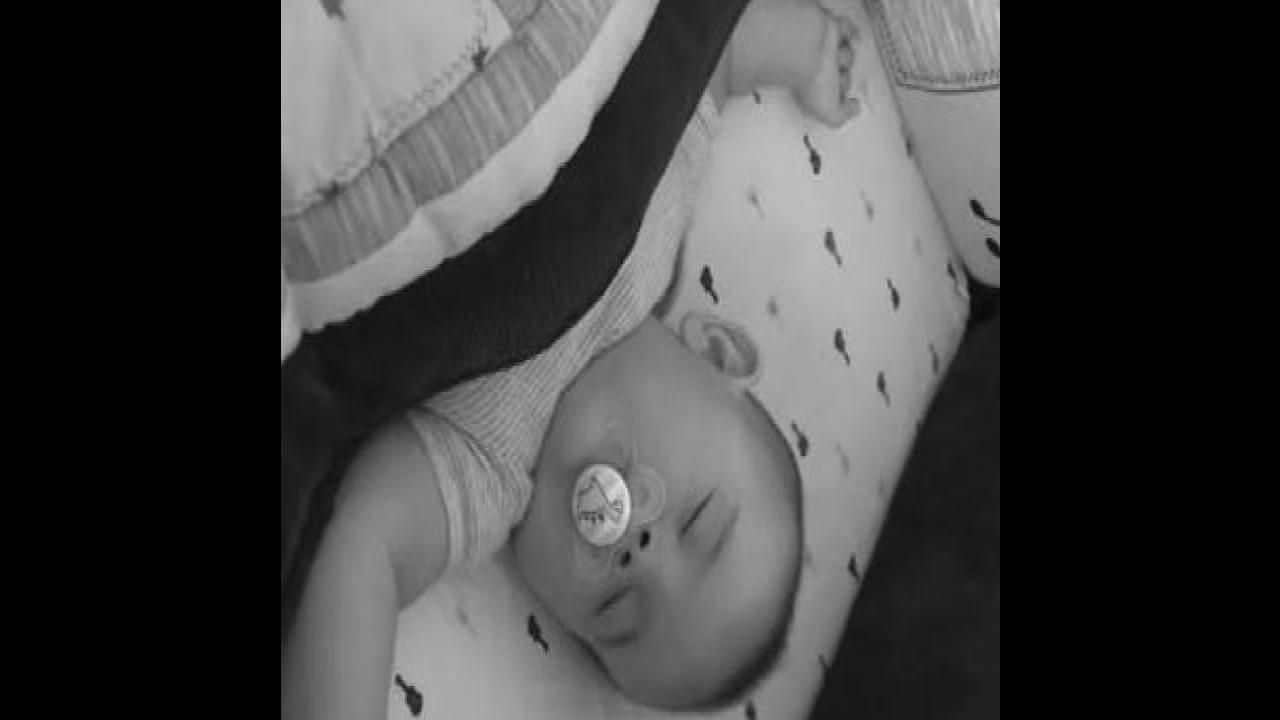hand: (797, 12, 857, 138)
